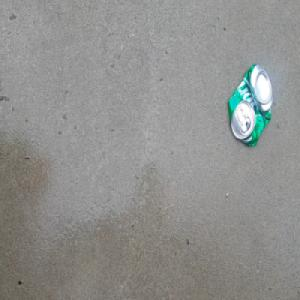SodaCan: (226, 61, 274, 148)
